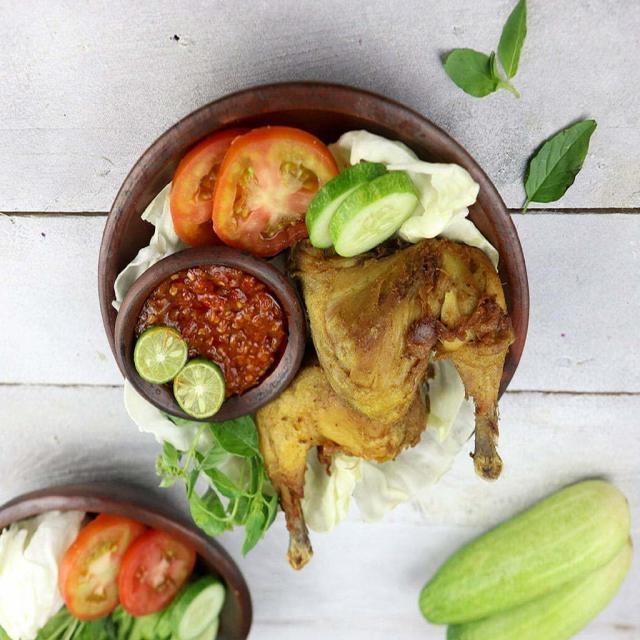ayam_goreng: (258, 250, 521, 510)
